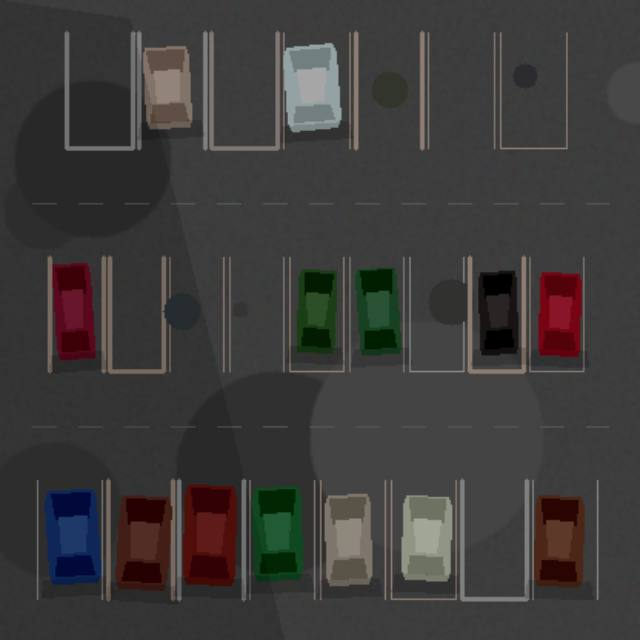space-empty: (355, 32, 422, 148), (66, 32, 132, 148), (211, 32, 277, 148), (428, 32, 494, 148), (500, 32, 566, 148), (462, 480, 526, 598), (109, 257, 163, 371), (169, 257, 223, 371), (229, 257, 283, 371), (409, 257, 463, 371)
space-occupied: (138, 32, 205, 148), (37, 480, 102, 598), (178, 480, 243, 598), (249, 480, 314, 598), (320, 480, 385, 598), (532, 480, 597, 598), (283, 32, 349, 148), (108, 480, 172, 598), (391, 480, 455, 598), (49, 257, 103, 371), (289, 257, 343, 371), (349, 257, 403, 371), (469, 257, 523, 371), (529, 257, 583, 371)
